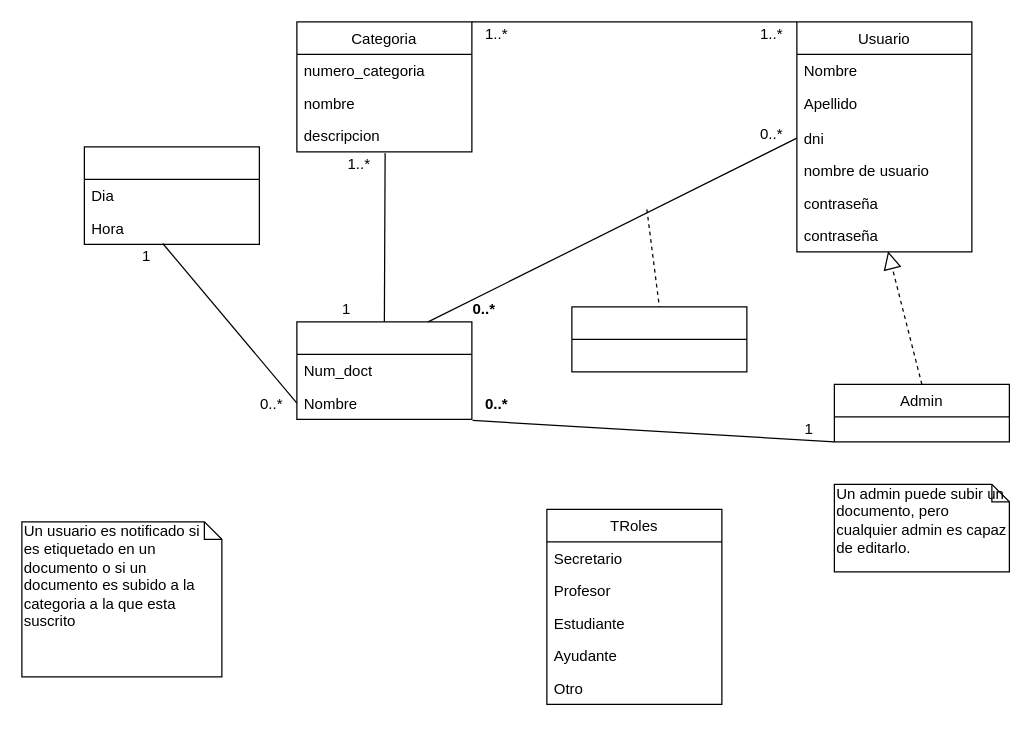
The diagram is 1031 pixels wide and 730 high, and some of its shapes have lost their labels. Each missing label, with the box of its shape:
Documento: (296, 321, 472, 419)
Fecha: (83, 146, 259, 244)
Notificaciones: (571, 306, 747, 372)
